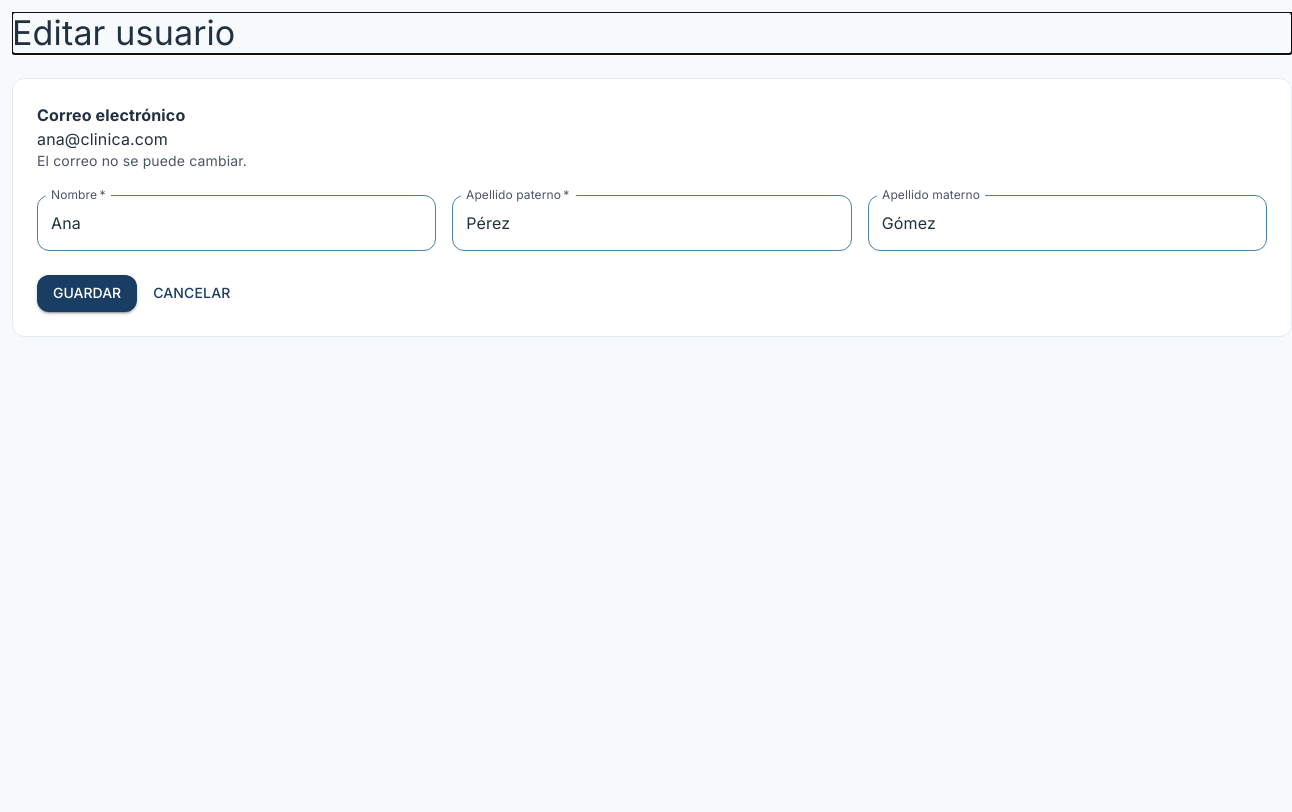
Test: UserEditPage: the form › saves the three fields, never the email, and goes back to the detail of the list it came from
The width and height of the screenshot is (1292, 812).
Replace the text in the field labelled "Nombre *" with "  Anita " at coordinates (237, 223), box x1=37 y1=195 x2=436 y2=251
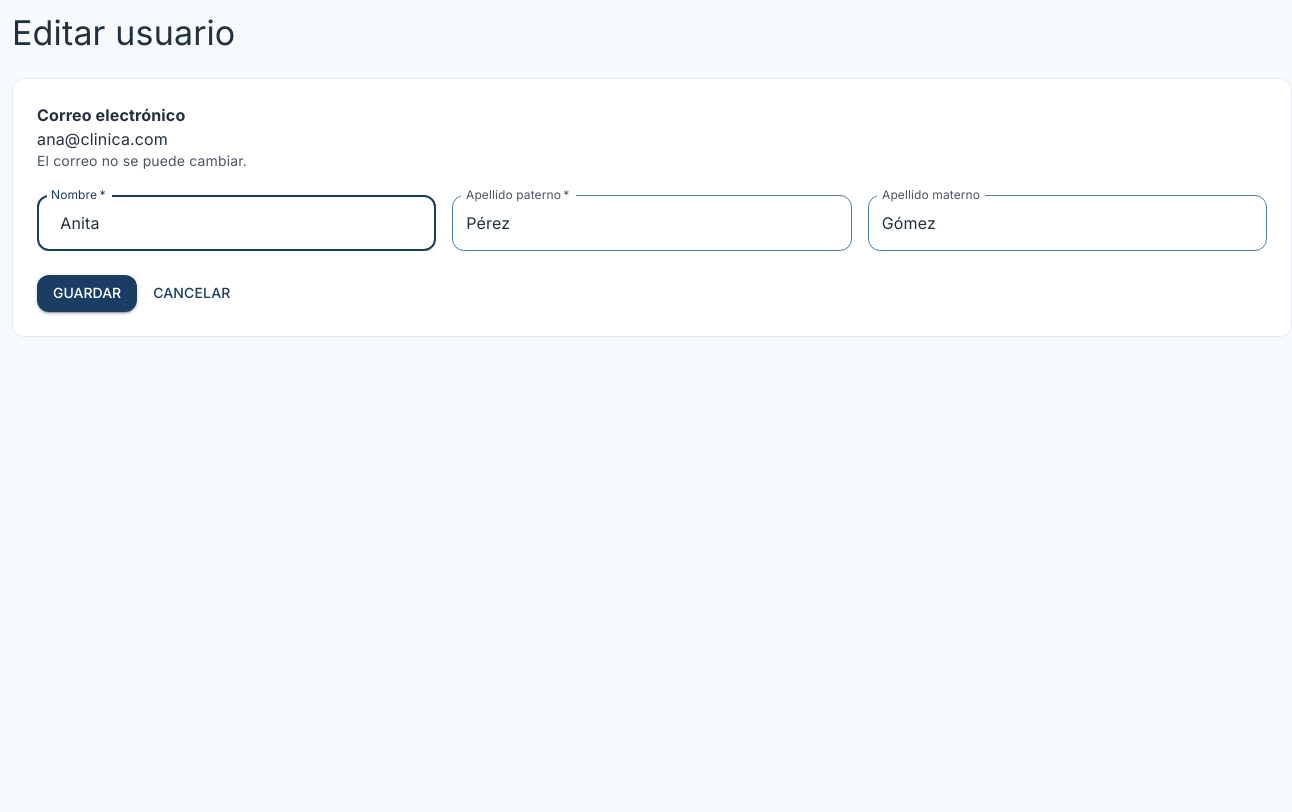
Click the button "Guardar" at coordinates (87, 293), box x1=37 y1=275 x2=137 y2=312
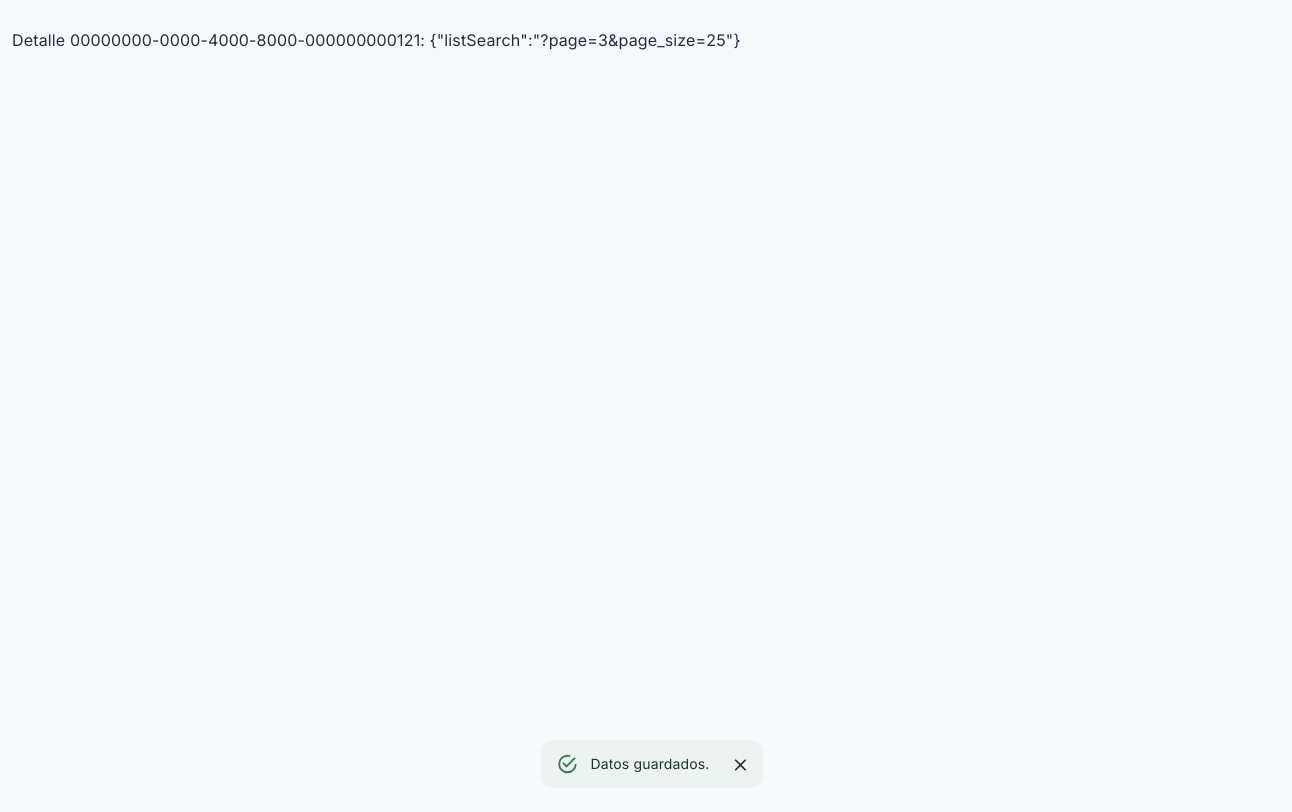
Result: the text "Datos guardados." is shown at x1=590 y1=755 x2=710 y2=772
